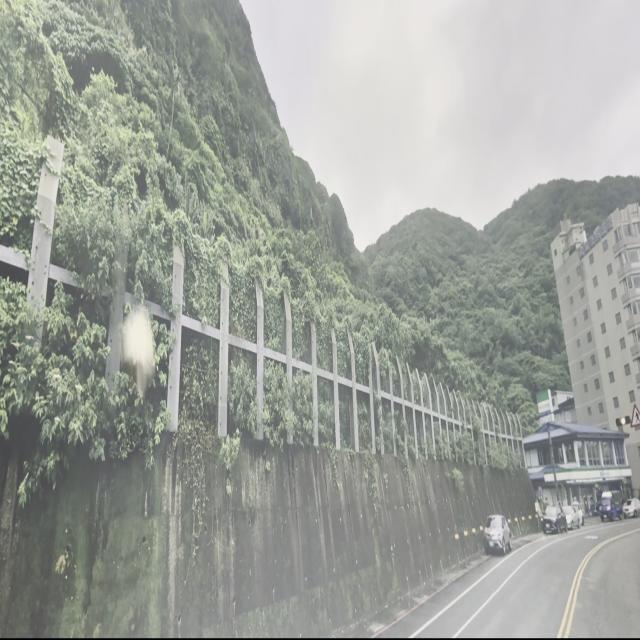Rock: (119, 305, 157, 401)
